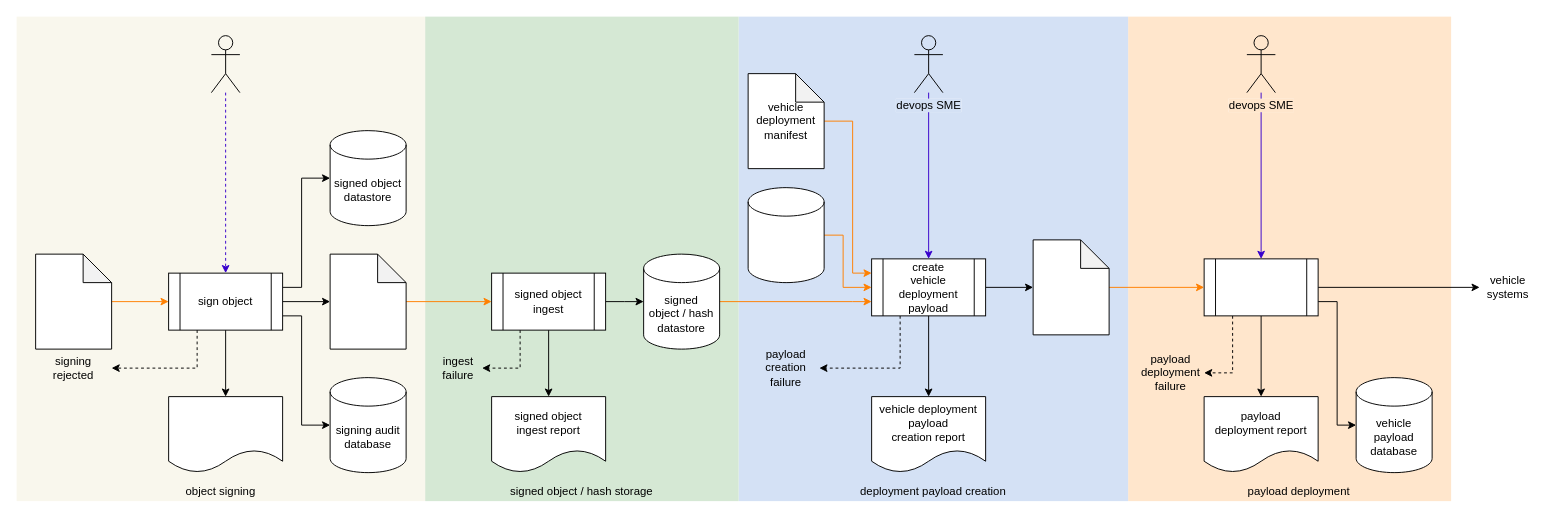
The diagram is 1552 pixels wide and 517 high, and some of its shapes have lost their labels. Here are the shapes that lost their labels. From the top down, the centre of each, then its label:
the point at 225,64: signing authorizer
the point at 785,235: vehicle public key database
the point at 73,301: object archive
the point at 367,301: signed object / hash archive
the point at 1070,287: vehicle deployment payload
the point at 1260,287: deploy payload
the point at 225,434: object signing report
